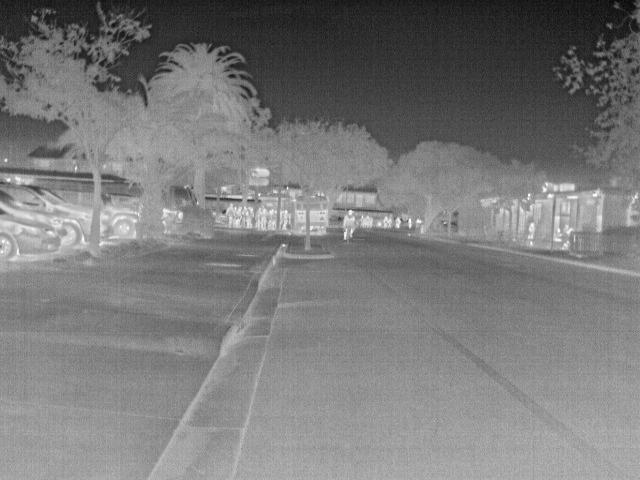car: (1, 182, 96, 247), (2, 204, 60, 262), (105, 204, 142, 240), (161, 209, 183, 231), (218, 208, 230, 224)
person: (342, 208, 359, 240), (525, 219, 538, 241), (552, 225, 566, 243), (406, 216, 414, 230)
